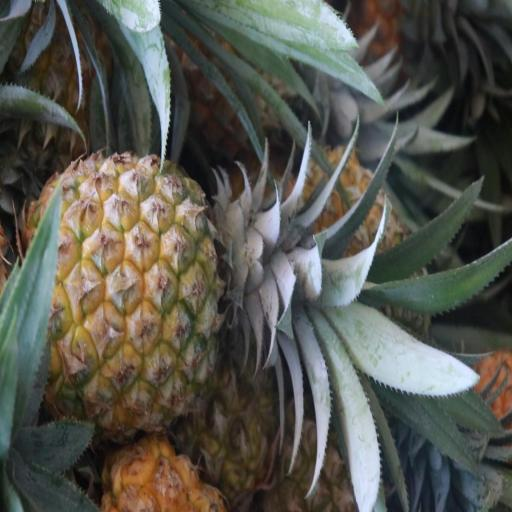Pineapple - v8 v1: (27, 156, 236, 434)
